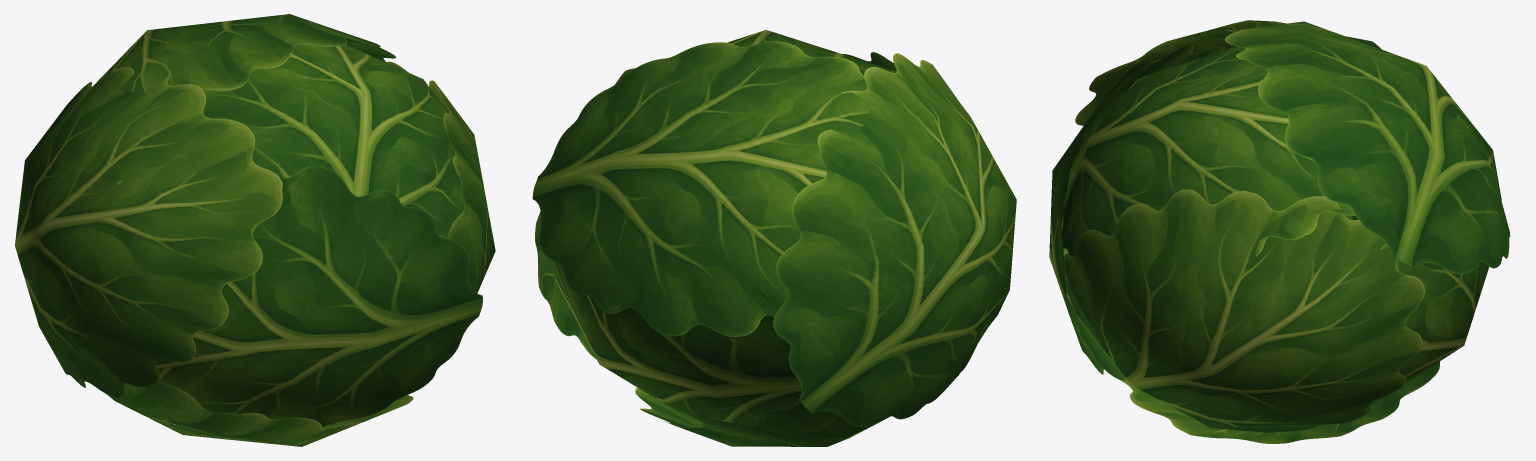
Rendered from Cabbage01.fbx.
3 renders of one model, left to right at view 1: azimuth 30°, elevation 25°; view 2: azimuth 150°, elevation 25°; view 3: azimuth 270°, elevation 25°, orthographic. The views are drawn at different scales.
Parts seen in each view (by area): view 1: Cabbage01_LOD0; view 2: Cabbage01_LOD0; view 3: Cabbage01_LOD0.
Part boxes in pixels (x1,y1,x2,y2): Cabbage01_LOD0: (15, 14, 495, 446); Cabbage01_LOD0: (532, 30, 1016, 446); Cabbage01_LOD0: (1049, 20, 1510, 443).
Size of what is drawn, in the model's own units: 0.332 by 0.2935 by 0.3312.
